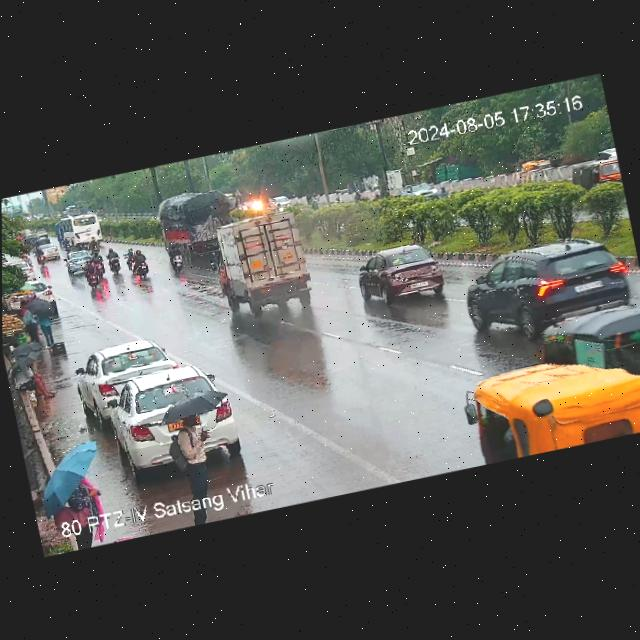bus: (55, 201, 113, 250), (222, 188, 242, 215)
car: (427, 316, 640, 472), (450, 217, 640, 344), (97, 357, 260, 487), (69, 328, 191, 424), (534, 297, 640, 399), (352, 222, 454, 315), (8, 277, 65, 322), (567, 152, 622, 194), (399, 168, 439, 204), (60, 246, 102, 280), (3, 252, 43, 287), (37, 235, 62, 264), (269, 186, 298, 210), (30, 221, 52, 240)
motorcycle: (127, 247, 162, 281), (78, 256, 106, 291), (102, 243, 128, 279), (91, 243, 112, 284), (120, 241, 140, 276), (305, 184, 324, 216), (32, 244, 53, 269), (348, 185, 370, 203), (434, 184, 457, 199), (371, 186, 388, 200)
person: (154, 386, 242, 498), (35, 445, 111, 521), (4, 348, 61, 414), (13, 335, 57, 383), (27, 291, 64, 348), (18, 301, 43, 342)
truck: (195, 200, 323, 331), (150, 177, 250, 268)
